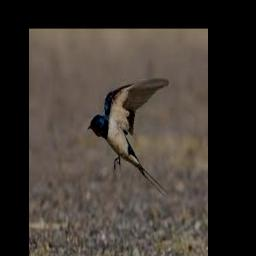Swallow: (88, 77, 169, 196)
